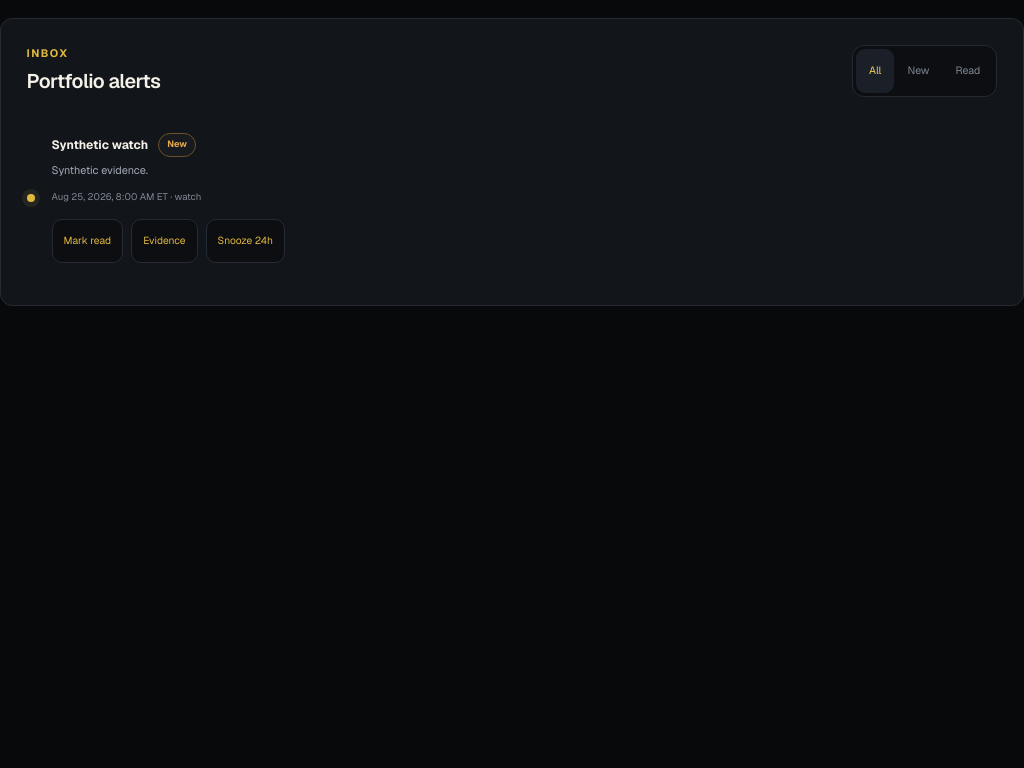
Test: AlertsCenter › marks alerts read, exposes evidence, and supports local snooze controls
Click the button "Evidence". click: click(164, 241)
box: 131,219 -> 198,263
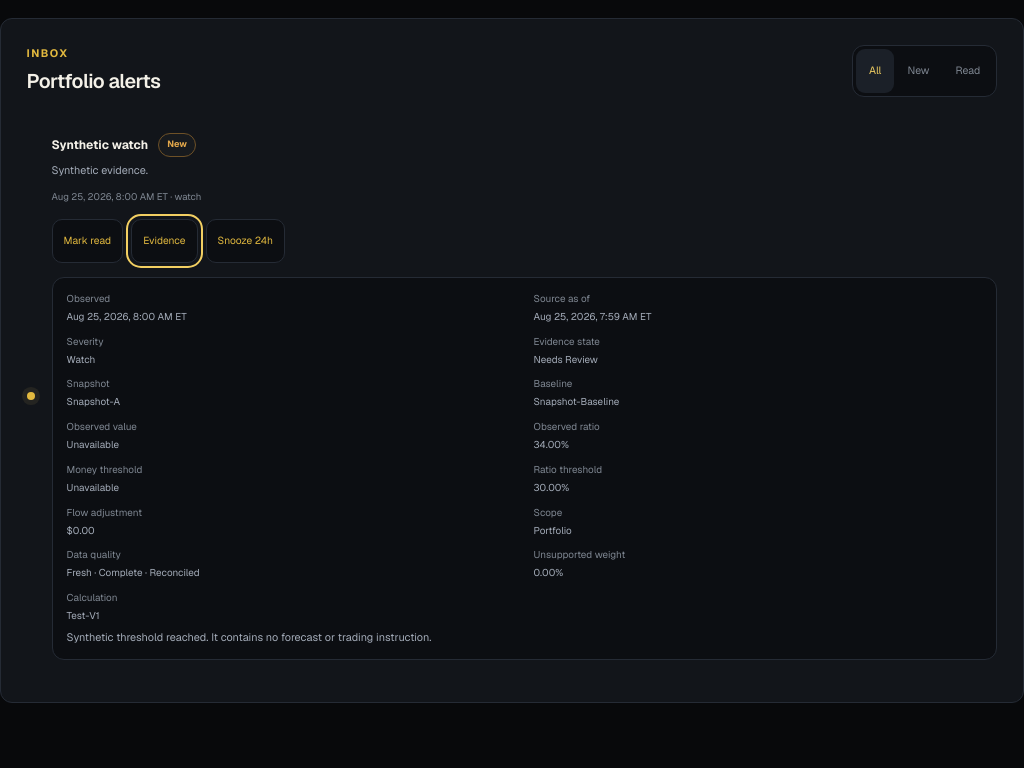
Check: the text "Source as of" is shown, box 534,292 -> 590,305
Click the button "Mark read". click: click(87, 241)
box: 52,219 -> 123,263
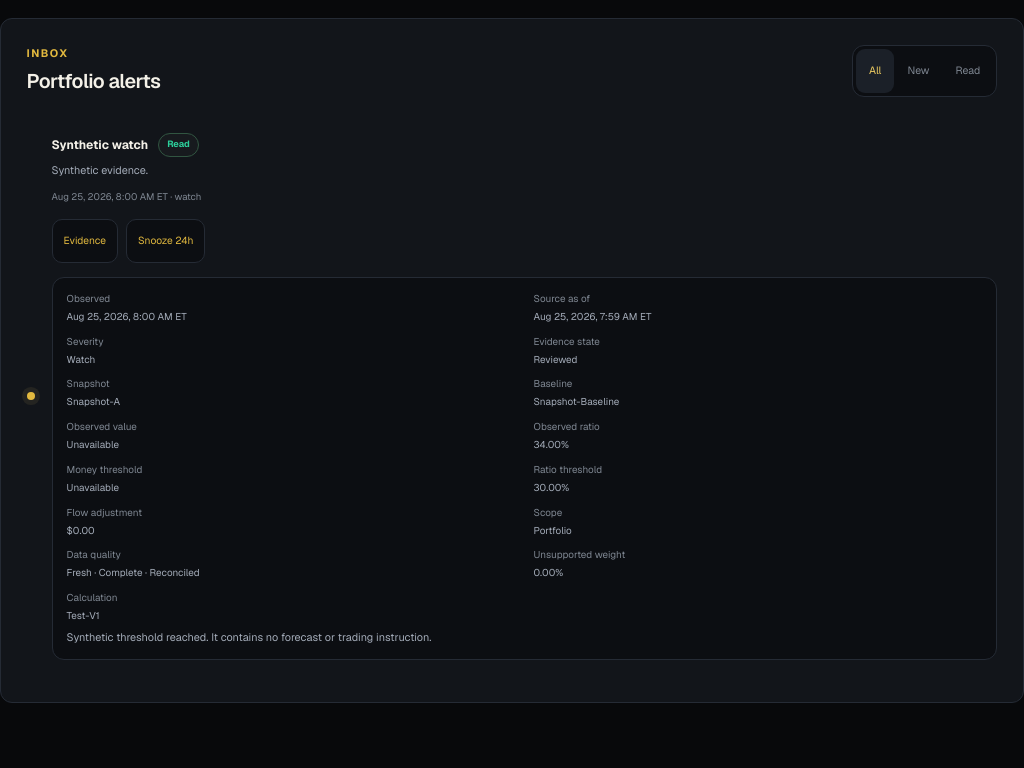
Check: the text "read" is shown, box 158,133 -> 199,157
Click the button "Snooze 24h". click: click(166, 241)
box: 126,219 -> 205,263
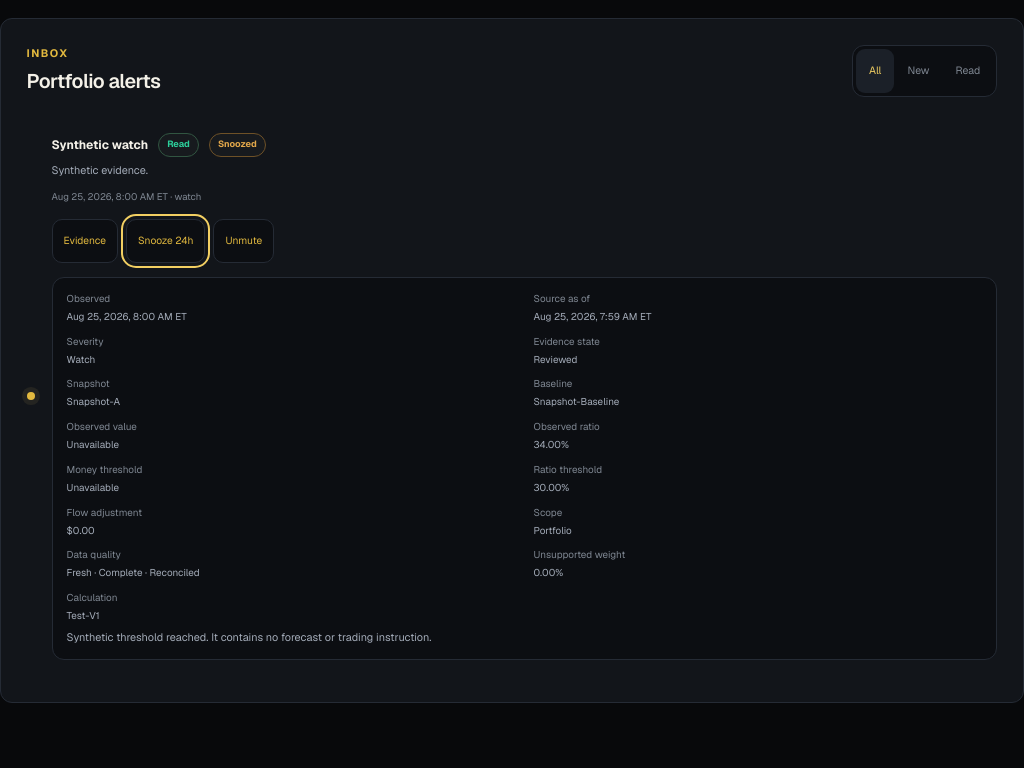
Check: the text "Snoozed" is shown, box 209,133 -> 266,157
